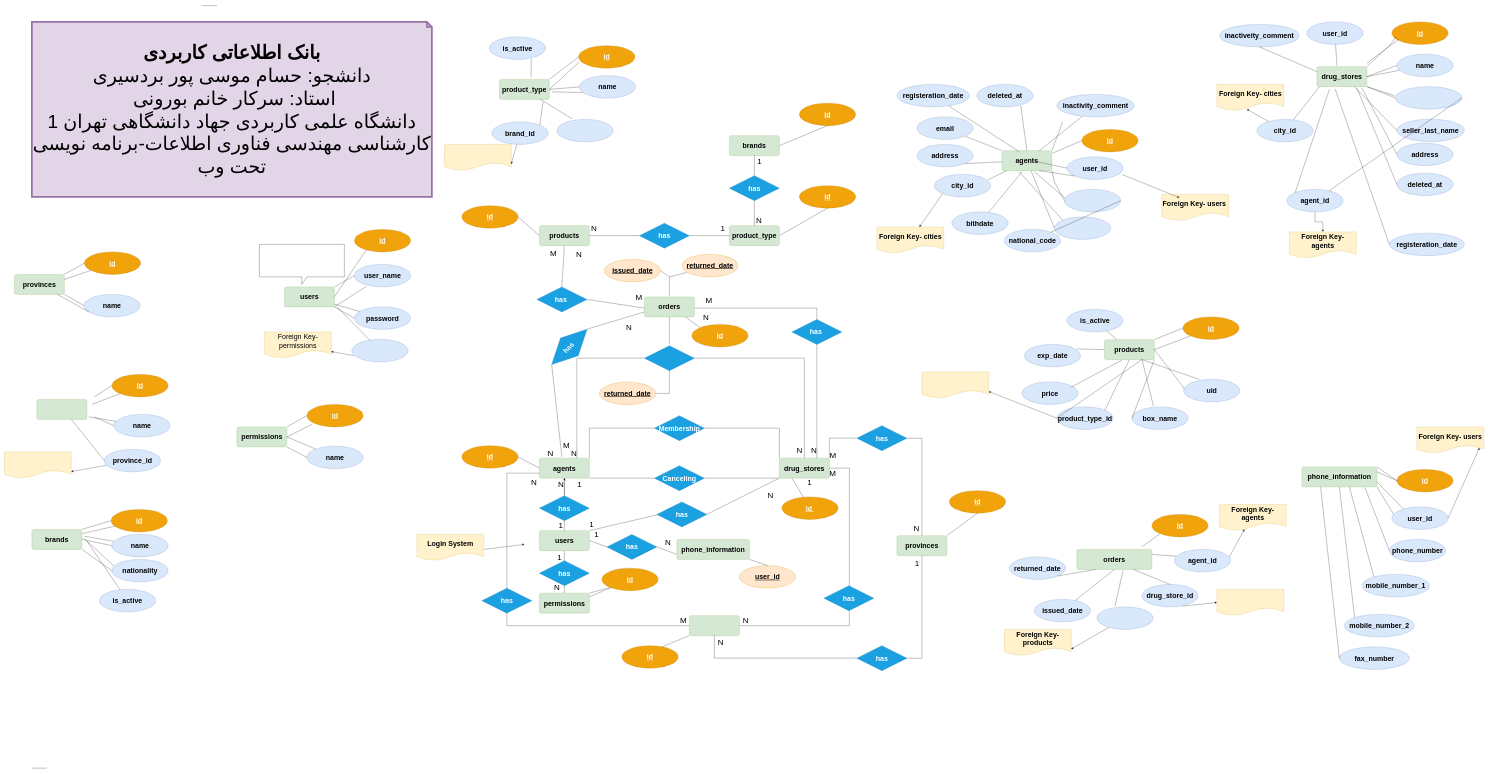
This 1488x774 diagram has some shape labels left out. The shapes that lost their labels are listed below. From the top down, each one's centre as x and y in pixels, then its label:
[1428,97]: seller_first_name
[585,130]: gtin_code
[477,157]: Foreign Key- brands
[1092,200]: first_name
[1082,228]: last_name
[301,264]: احراز هویت
[380,350]: permission_id
[669,358]: Returning
[955,385]: Foreign Key- product_type
[62,409]: cities
[37,465]: Foreign Key- provinces
[1125,618]: product_id
[1250,602]: Foreign Key- drug_store
[714,625]: citiies
